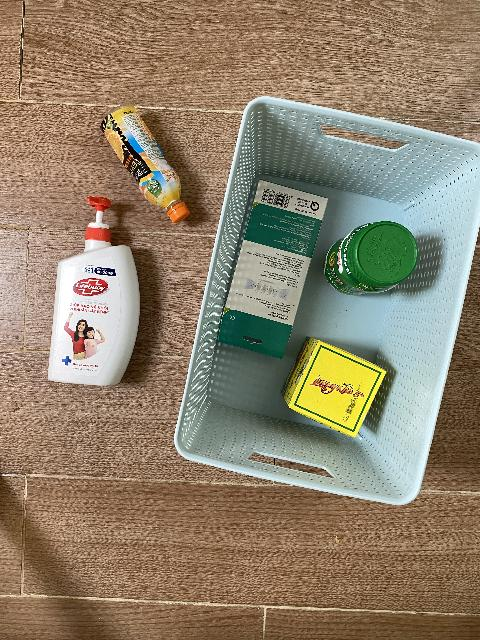4D_medical_face-mask: (217, 180, 328, 360)
cart: (173, 97, 480, 509)
life-buoy: (47, 197, 140, 387)
luong_kho: (282, 337, 387, 438)
milo: (324, 221, 419, 296)
teppy_orange_juice: (100, 106, 190, 224)
